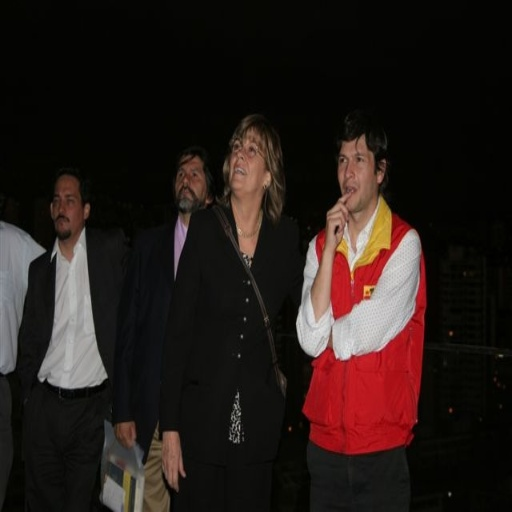hand: (157, 423, 184, 501), (327, 189, 352, 250), (114, 422, 137, 448)
